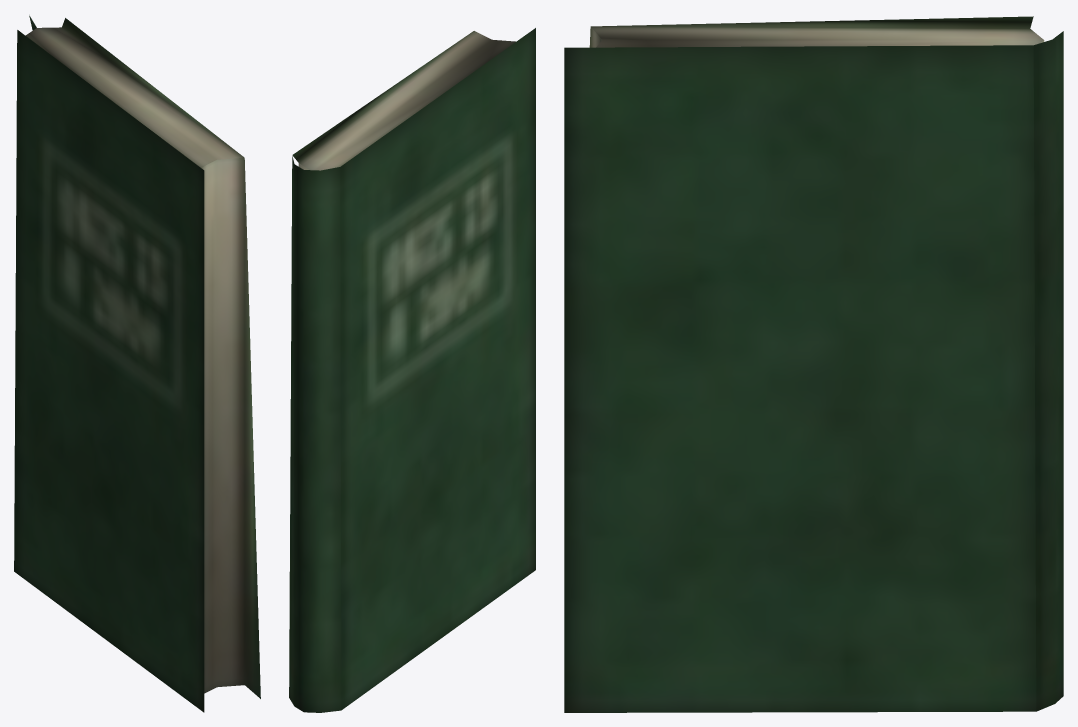
The model's file is commonBook.glb.
3 renders of one model, left to right at view 1: azimuth 30°, elevation 25°; view 2: azimuth 150°, elevation 25°; view 3: azimuth 270°, elevation 25°, orthographic. The views are drawn at different scales.
Parts seen in each view (by area): view 1: commonBook; view 2: commonBook; view 3: commonBook.
Part boxes in pixels (<box>): commonBook: <box>14,15,260,712</box>; commonBook: <box>289,28,535,712</box>; commonBook: <box>564,16,1063,712</box>.
Bounding box in the file's own units: 0.0404 × 0.3713 × 0.2527.
1 material, 1 textured.
